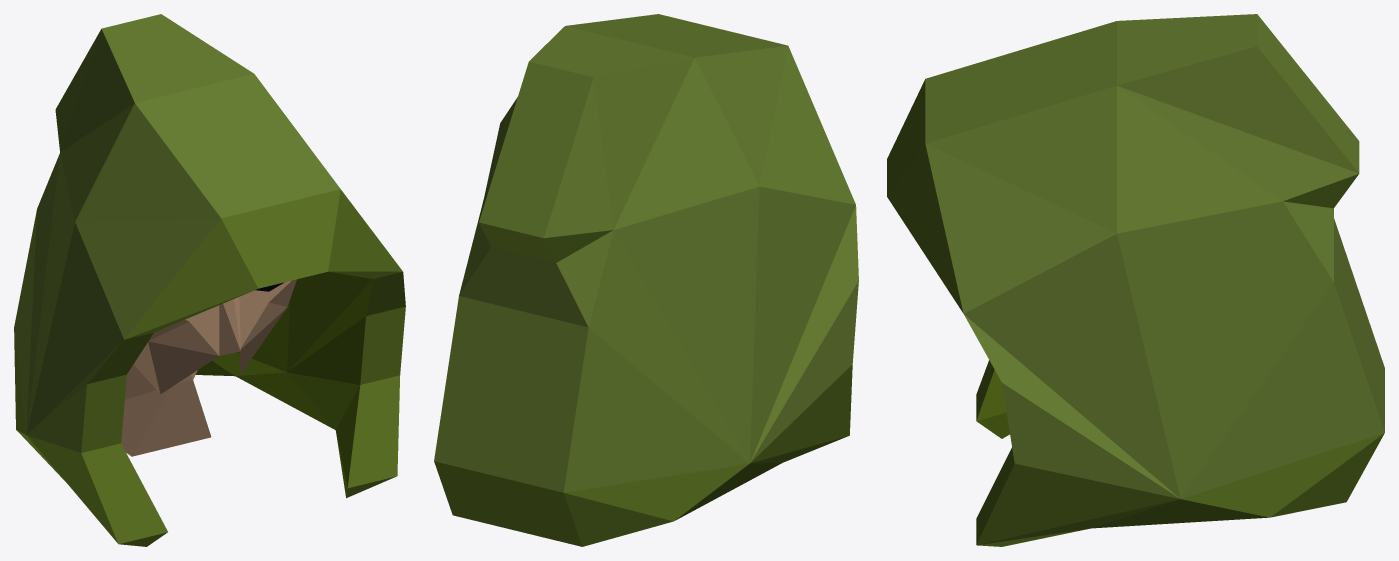
3 views of the same model, side by side, from view 1: azimuth 30°, elevation 25°; view 2: azimuth 150°, elevation 25°; view 3: azimuth 270°, elevation 25° (orthographic). The views are drawn at different scales.
Bounding box in the file's own units: 32 × 40 × 39.
